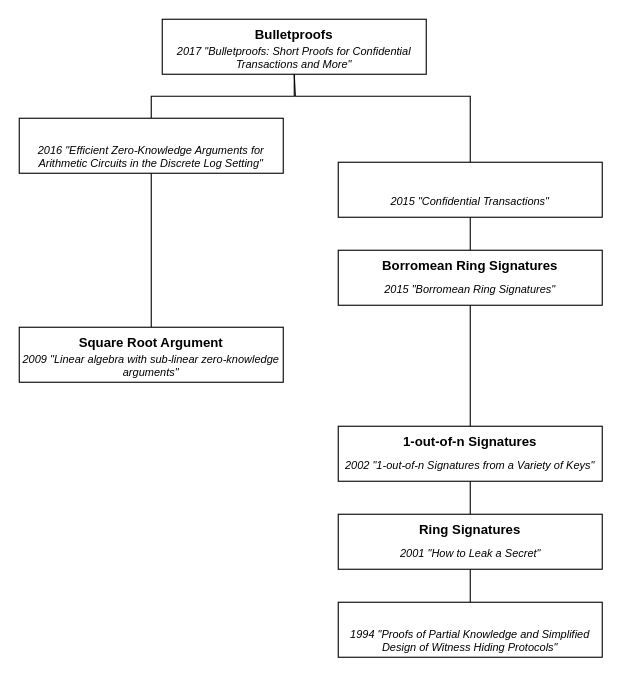
The diagram is 622 pixels wide and 677 high, and some of its shapes have lost their labels. The shapes that lost their labels are listed below. From the top down, each one's box as (x1, y1, x2, y2) in pixels, then its label:
(18, 117, 283, 173): Logarithmic Inner Product Argument
(337, 161, 602, 217): Confidential Transaction Values
(337, 601, 602, 657): Witness Indistinguishable Signatures
